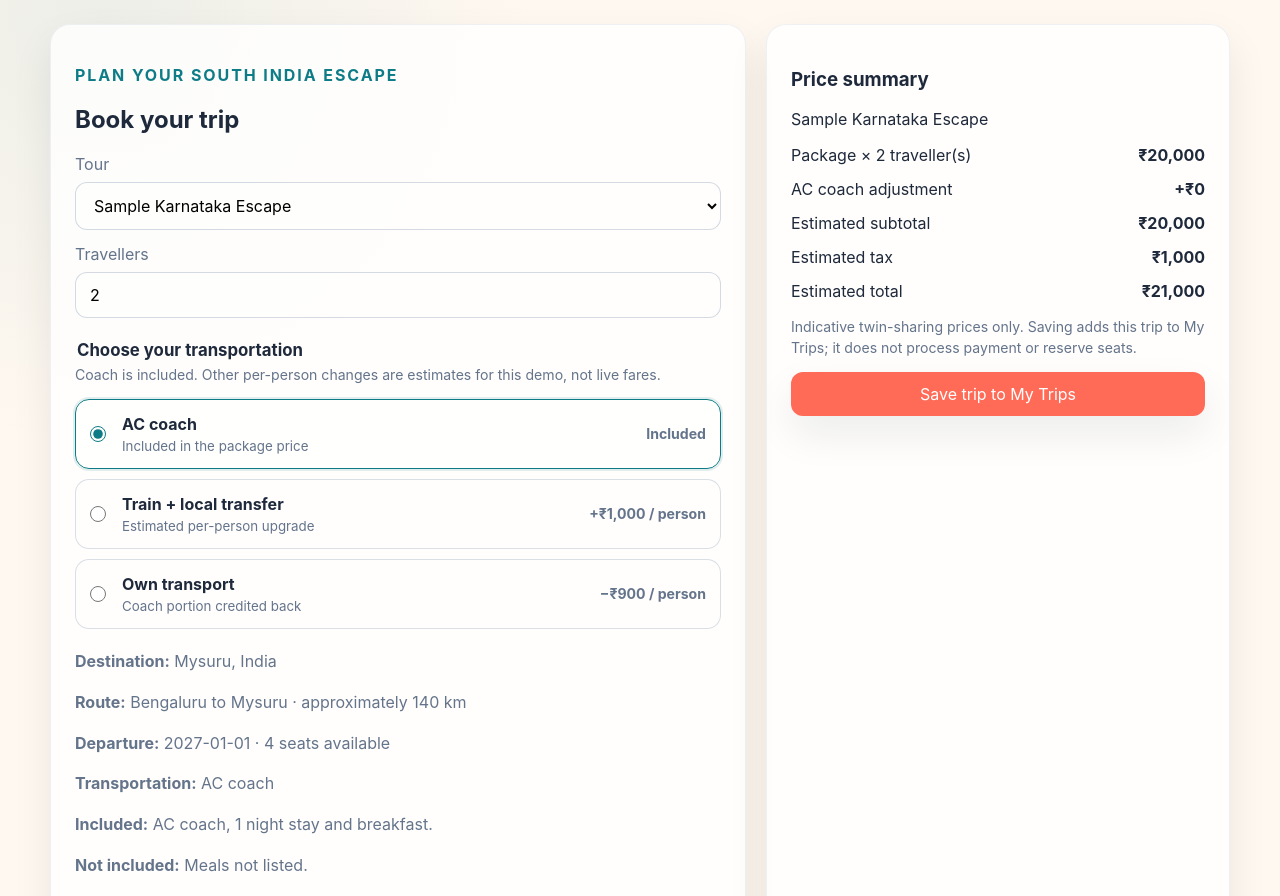
Test: BookingPage transportation estimates › credits the included coach portion when travellers arrange their own transport
Expected: the text "₹21,000" is shown, 1142,281 -> 1205,301
Click the radio button labelled "Own transport Coach portion credited back −₹900 / person" at {"x": 98, "y": 594}, box 90,586 -> 106,602
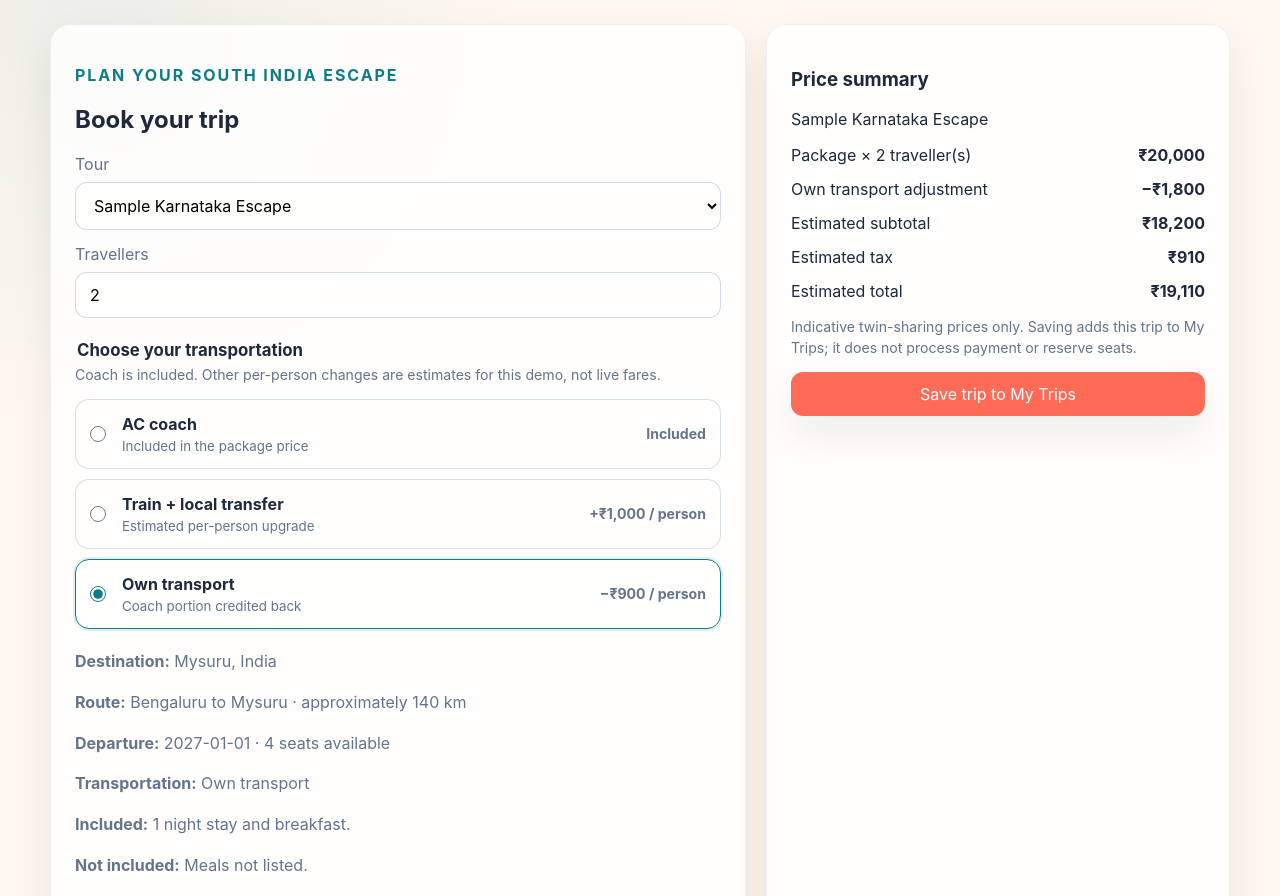
Expected: the text "Included: 1 night stay and breakfast." is shown, 75,814 -> 350,834
Expected: the text "₹19,110" is shown, 1150,281 -> 1205,301
